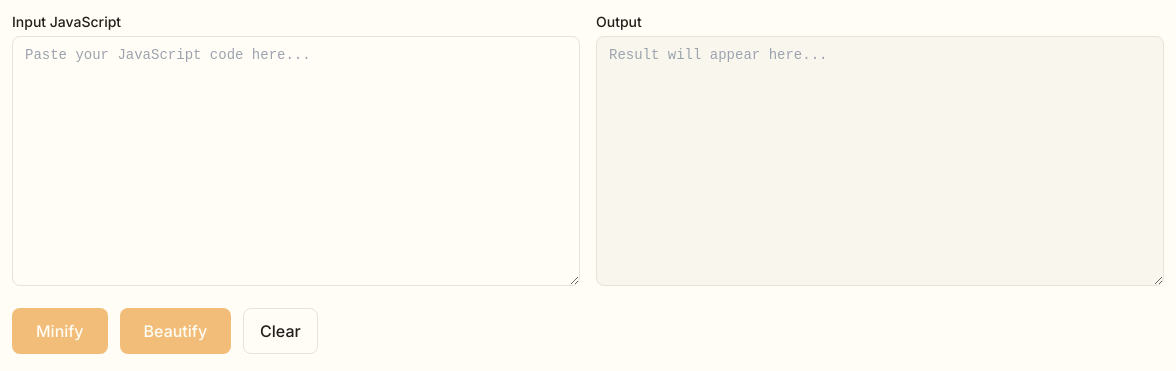
Test case: JsMinifier › enables buttons when input has content
Type "var x = 1;" into the text box named "JavaScript input" at (296, 161), box [12, 36, 580, 286]
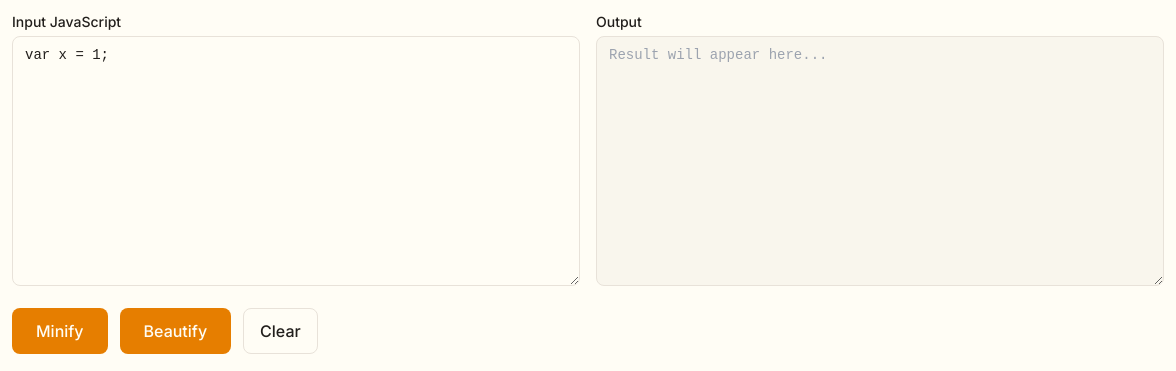
Expected: the button "Minify" is enabled, [12, 308, 108, 354]
Expected: the button "Beautify" is enabled, [120, 308, 231, 354]
